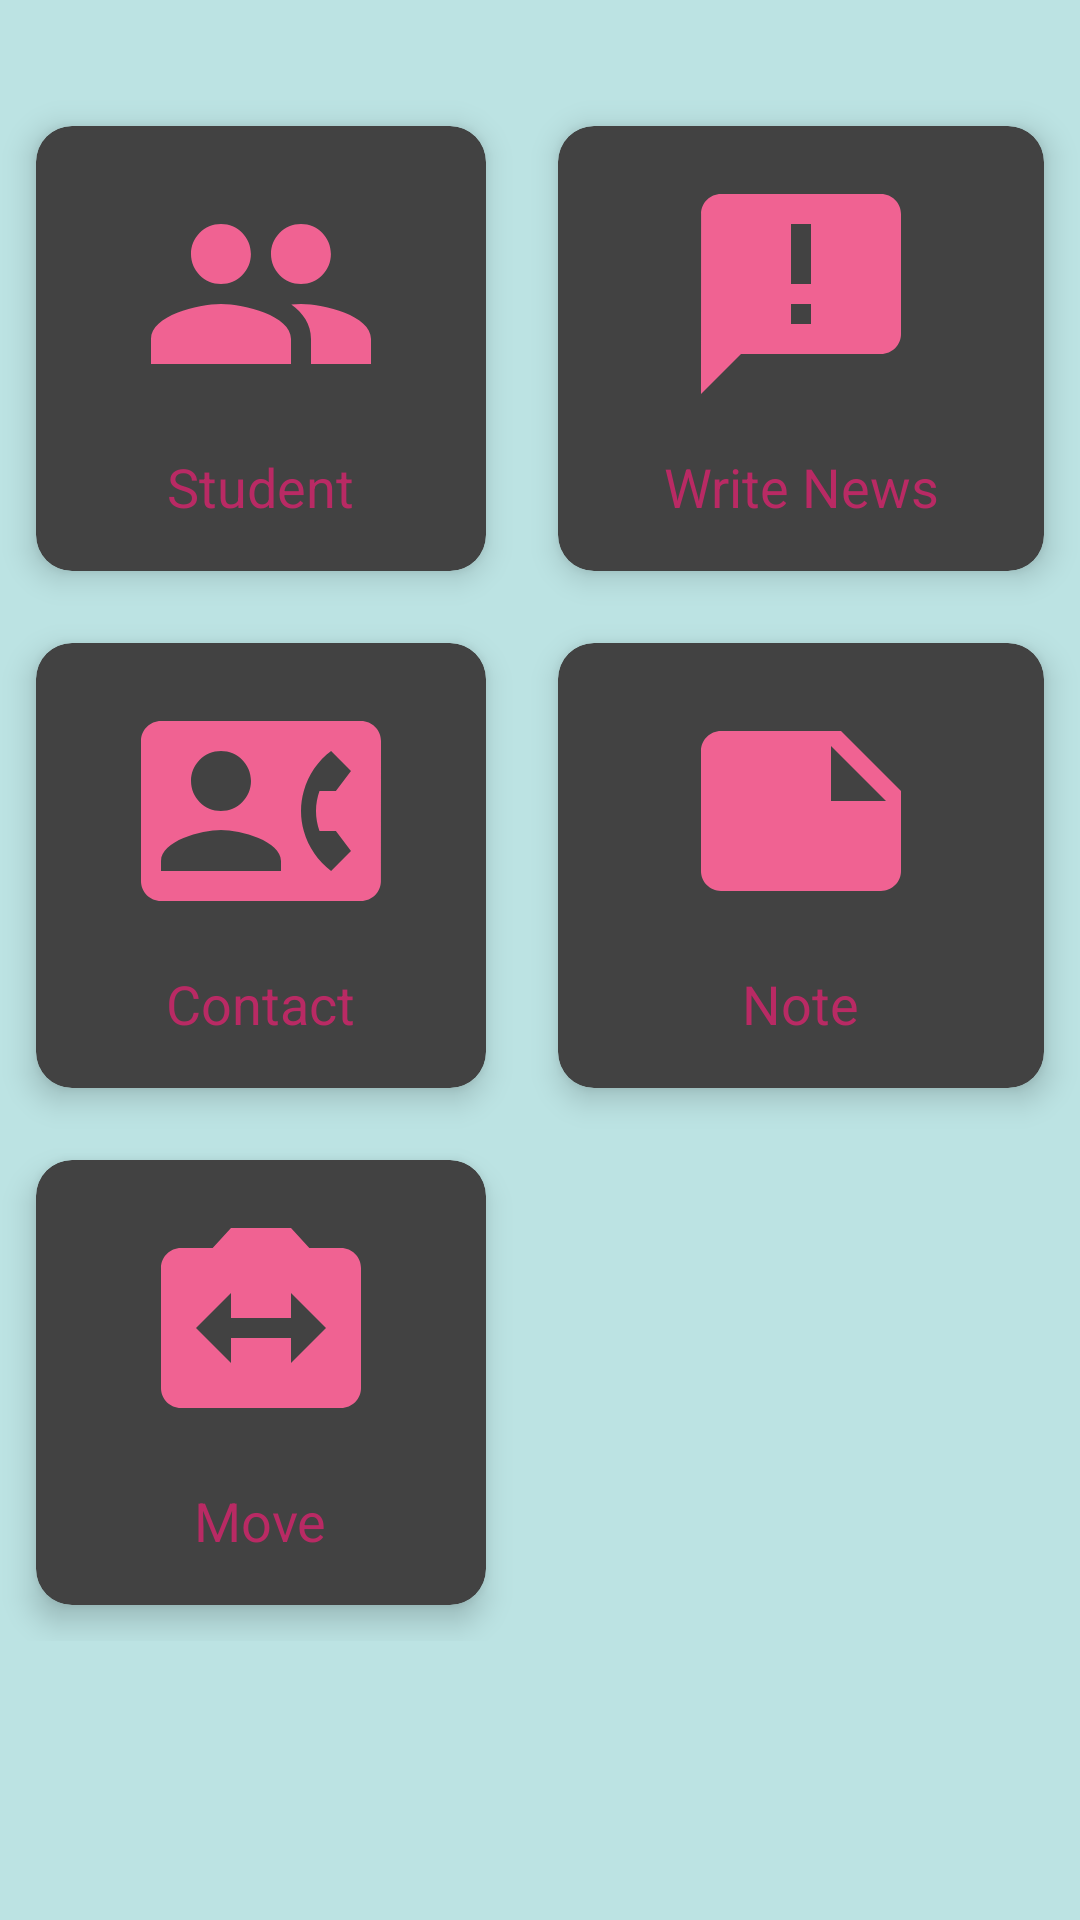

Screen size 1080x1920. Icon name, then its center in pixels as (x=x, y=y):
announcement: (x=801, y=294)
